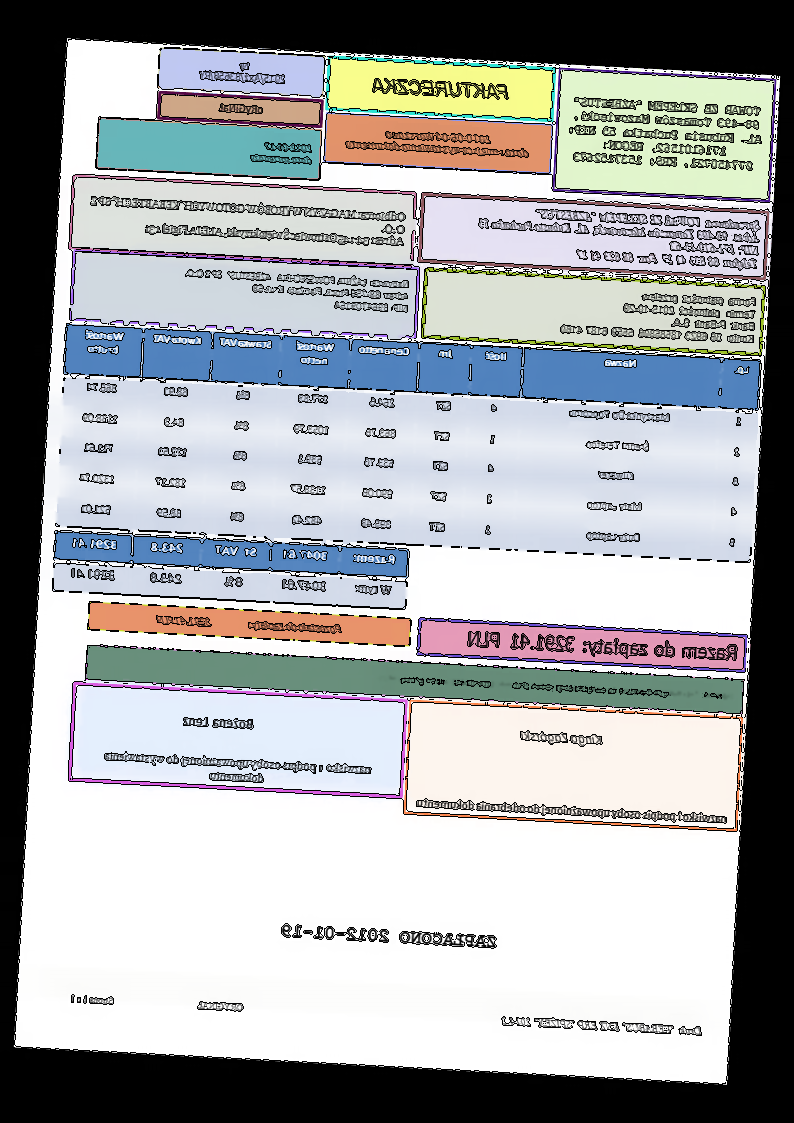Table: (55, 322, 762, 563), (52, 529, 410, 610)
TextBox: (476, 202, 762, 270), (88, 193, 408, 250), (567, 95, 766, 172), (558, 286, 758, 346), (374, 671, 736, 704), (182, 265, 413, 316), (103, 748, 372, 790), (417, 794, 730, 826), (466, 627, 739, 663), (343, 126, 532, 160), (280, 921, 498, 950), (499, 1013, 704, 1039), (154, 611, 344, 638), (370, 74, 511, 102), (69, 992, 245, 1014), (197, 57, 288, 86), (519, 726, 605, 749), (249, 139, 314, 166), (180, 713, 255, 732), (217, 100, 265, 116)
